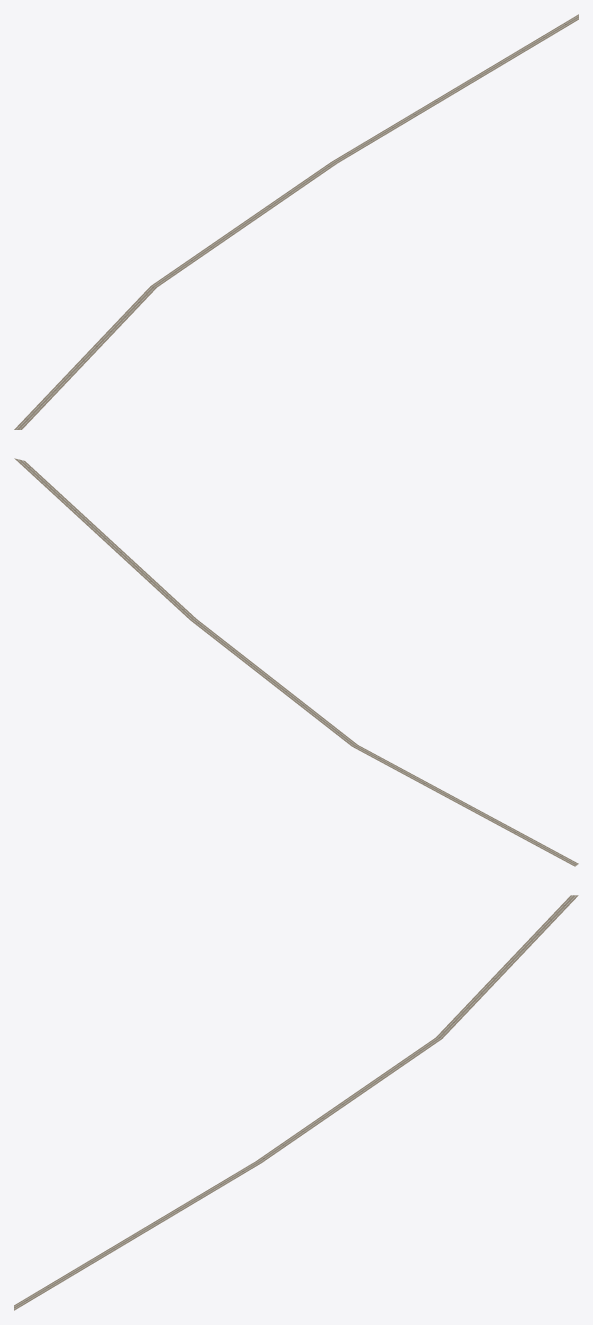
3 renders of one model, top to bottom at view 1: azimuth 90°, elevation 25°; view 2: azimuth 150°, elevation 25°; view 3: azimuth 270°, elevation 25°, orthographic.
Parts seen in each view (by area): view 1: rail; view 2: rail; view 3: rail.
Part boxes in pixels (<box>): rail: <box>14,14,578,429</box>; rail: <box>14,458,578,866</box>; rail: <box>14,895,578,1310</box>.
Bounding box in the file's own units: 474 × 0.04 × 272.
